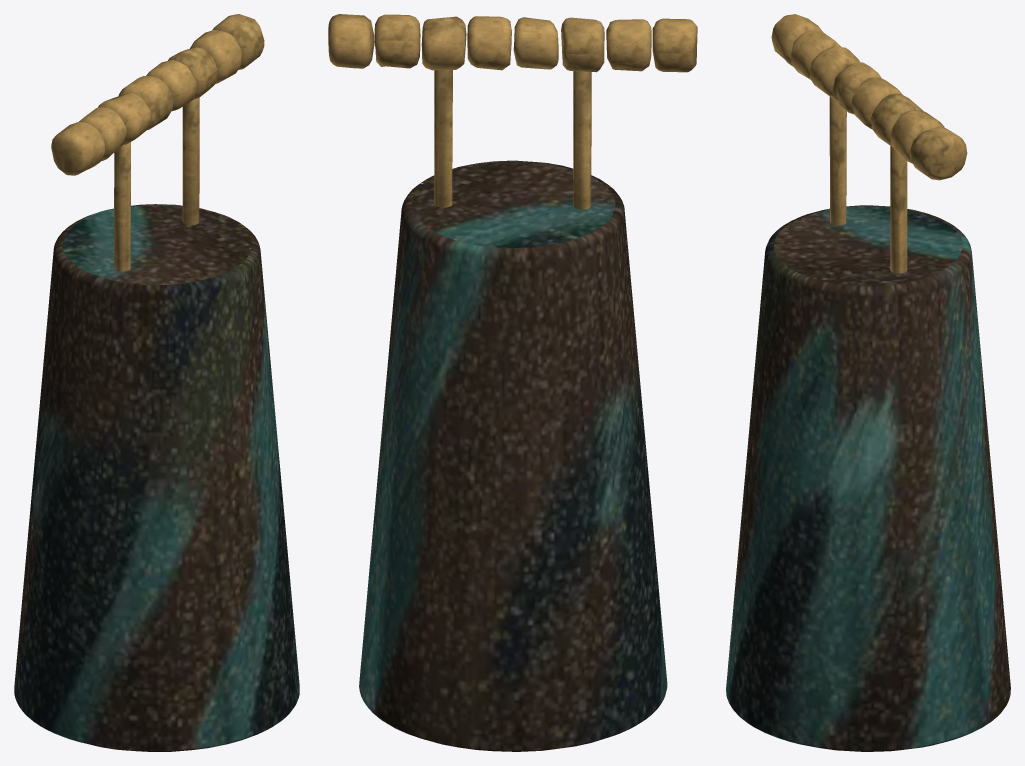
Rendered from Medenka_04_Pricka_cerna.glb.
3 views of the same model, side by side, from view 1: azimuth 30°, elevation 25°; view 2: azimuth 150°, elevation 25°; view 3: azimuth 270°, elevation 25° (orthographic). The views are drawn at different scales.
Visible parts, largest first — view 1: Telo, Koralek_1, Sloupek_2, Sloupek_1, Koralek_7, Koralek_8, Koralek_4, Koralek_3, Koralek_5, Koralek_2, Koralek_6; view 2: Telo, Sloupek_1, Sloupek_2, Koralek_7, Koralek_8, Koralek_1, Koralek_5, Koralek_6, Koralek_2, Koralek_3, Koralek_4; view 3: Telo, Koralek_8, Sloupek_2, Sloupek_1, Koralek_3, Koralek_7, Koralek_6, Koralek_5, Koralek_2, Koralek_1, Koralek_4.
Boxes of the visible parts, x1=… form: Telo: x1=14, y1=204, x2=299, y2=751; Koralek_1: x1=51, y1=122, x2=105, y2=175; Sloupek_2: x1=182, y1=98, x2=199, y2=225; Sloupek_1: x1=114, y1=142, x2=130, y2=271; Koralek_7: x1=190, y1=30, x2=242, y2=83; Koralek_8: x1=212, y1=14, x2=264, y2=69; Koralek_4: x1=118, y1=76, x2=173, y2=129; Koralek_3: x1=98, y1=92, x2=151, y2=144; Koralek_5: x1=146, y1=60, x2=196, y2=110; Koralek_2: x1=79, y1=107, x2=127, y2=160; Koralek_6: x1=168, y1=47, x2=217, y2=99; Telo: x1=359, y1=160, x2=667, y2=751; Sloupek_1: x1=573, y1=71, x2=591, y2=209; Sloupek_2: x1=434, y1=70, x2=452, y2=207; Koralek_7: x1=374, y1=14, x2=420, y2=68; Koralek_8: x1=328, y1=14, x2=374, y2=68; Koralek_1: x1=652, y1=18, x2=697, y2=72; Koralek_5: x1=467, y1=16, x2=511, y2=70; Koralek_6: x1=421, y1=16, x2=466, y2=70; Koralek_2: x1=606, y1=19, x2=651, y2=71; Koralek_3: x1=561, y1=17, x2=604, y2=72; Koralek_4: x1=513, y1=17, x2=558, y2=69; Telo: x1=726, y1=205, x2=1010, y2=751; Koralek_8: x1=909, y1=126, x2=967, y2=180; Sloupek_2: x1=890, y1=146, x2=907, y2=273; Sloupek_1: x1=829, y1=97, x2=846, y2=225; Koralek_3: x1=809, y1=46, x2=859, y2=98; Koralek_7: x1=890, y1=109, x2=944, y2=163; Koralek_6: x1=871, y1=93, x2=922, y2=147; Koralek_5: x1=851, y1=77, x2=902, y2=128; Koralek_2: x1=790, y1=30, x2=841, y2=79; Koralek_1: x1=771, y1=14, x2=822, y2=66; Koralek_4: x1=832, y1=62, x2=881, y2=114.
Bounding box in the file's own units: 0.0439 × 0.0956 × 0.0399.
Materials: 3 (3 with a texture image).
